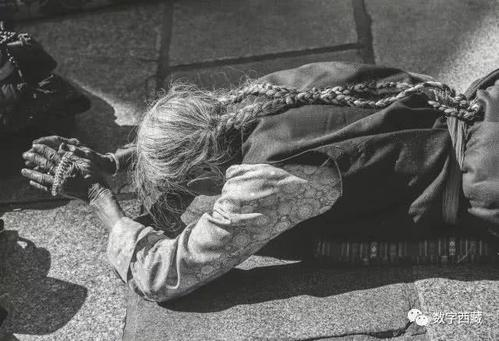fall: (7, 28, 498, 311)
